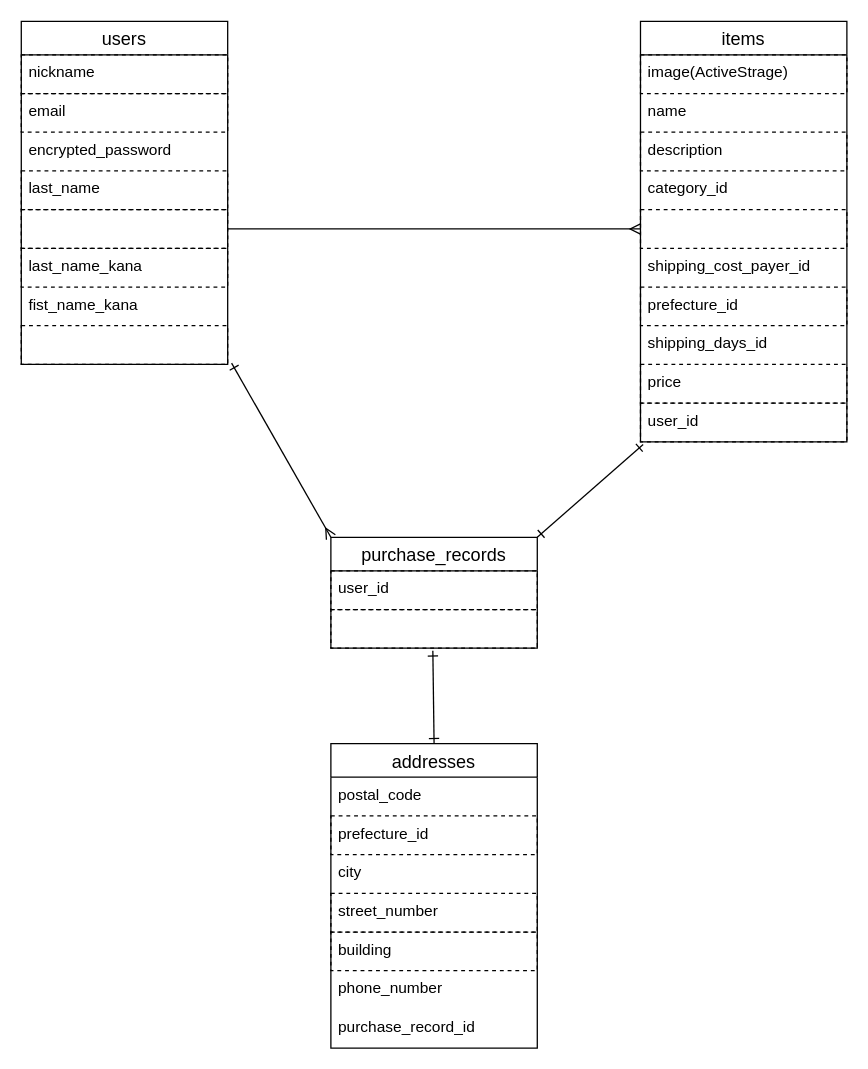
Some shapes in this 868 by 1069 pixel diagram are drawn without their labels. Each missing label, with the centre of its shape:
"birthday" goes at [124,344].
"condition_id" goes at [743,228].
"first_name" goes at [124,228].
"item_id" goes at [433,628].
